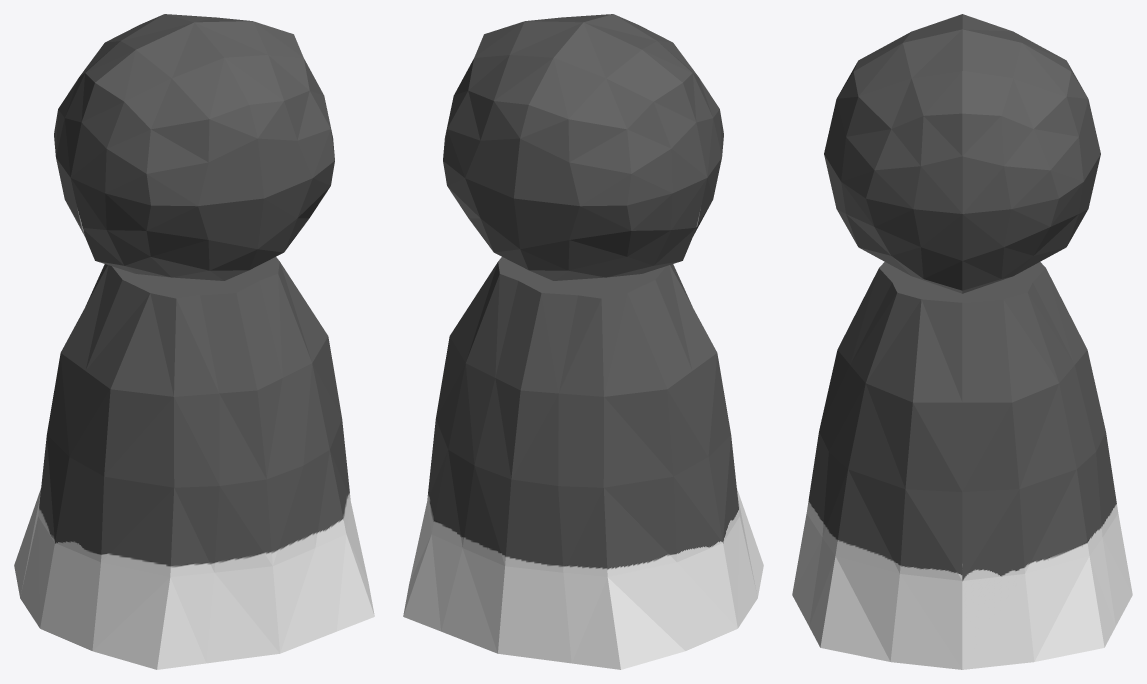
The model's file is Player.obj.
3 views of the same model, side by side, from view 1: azimuth 30°, elevation 25°; view 2: azimuth 150°, elevation 25°; view 3: azimuth 270°, elevation 25° (orthographic).
Visible parts, largest first — view 1: 立方体; view 2: 立方体; view 3: 立方体.
Boxes of the visible parts, left/top/right/bottom form: 立方体: left=14, top=14, right=374, bottom=669; 立方体: left=403, top=14, right=763, bottom=669; 立方体: left=792, top=14, right=1132, bottom=669.
Size of the model in its own units: 1.81 by 3.18 by 1.74.
Materials: 1 (1 with a texture image).
